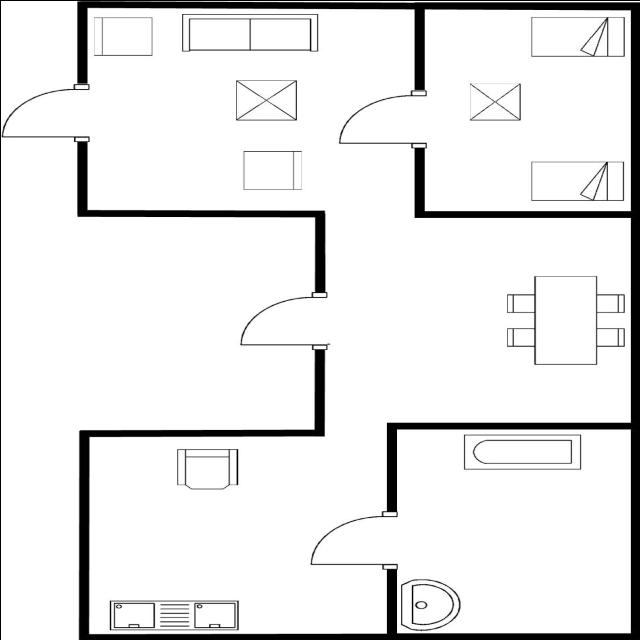armchair: (172, 444, 245, 494)
bed: (525, 158, 627, 204), (525, 15, 629, 60)
coffee_table: (228, 75, 302, 123), (464, 78, 526, 124)
dining_table: (502, 272, 628, 368)
large_sofa: (174, 8, 324, 54)
small_sink: (397, 576, 467, 632)
small_sofa: (238, 146, 308, 193), (90, 11, 156, 60)
tub: (460, 430, 586, 474)
twin_sink: (102, 597, 242, 631)
